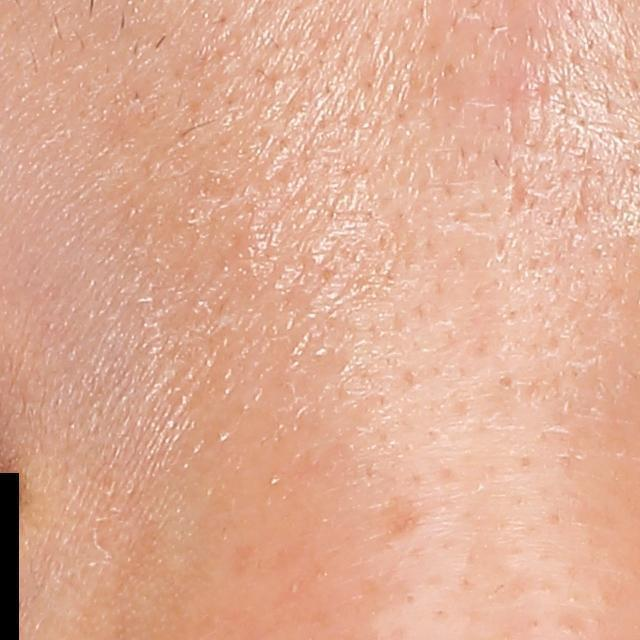comedo: (494, 372, 517, 393)
